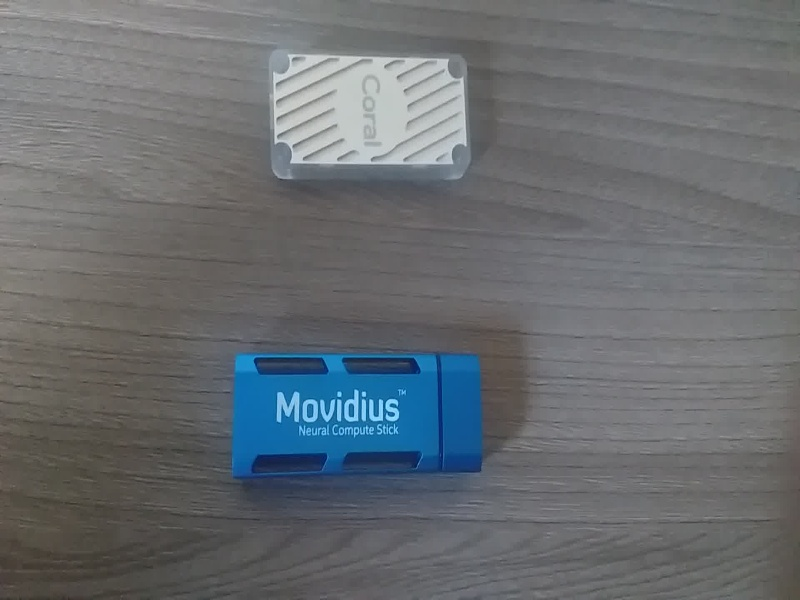coral: (254, 35, 485, 203)
movidius: (220, 343, 487, 492)
